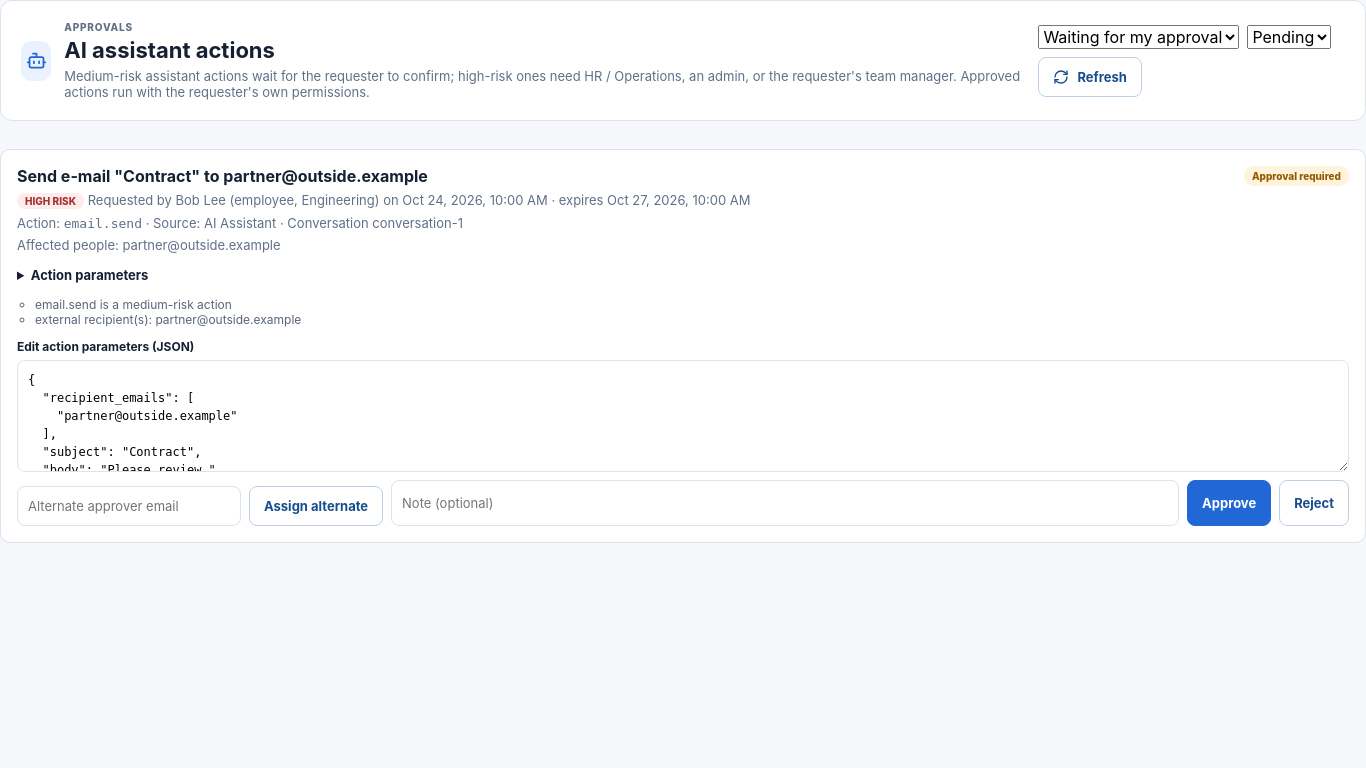
it: AgentApprovalsSection › lets an authorized approver assign an alternate by email
The image size is (1366, 768).
In the field with placeholder "Alternate approver email": (129, 506) [17,486,241,526], type "farah@northstar.example"
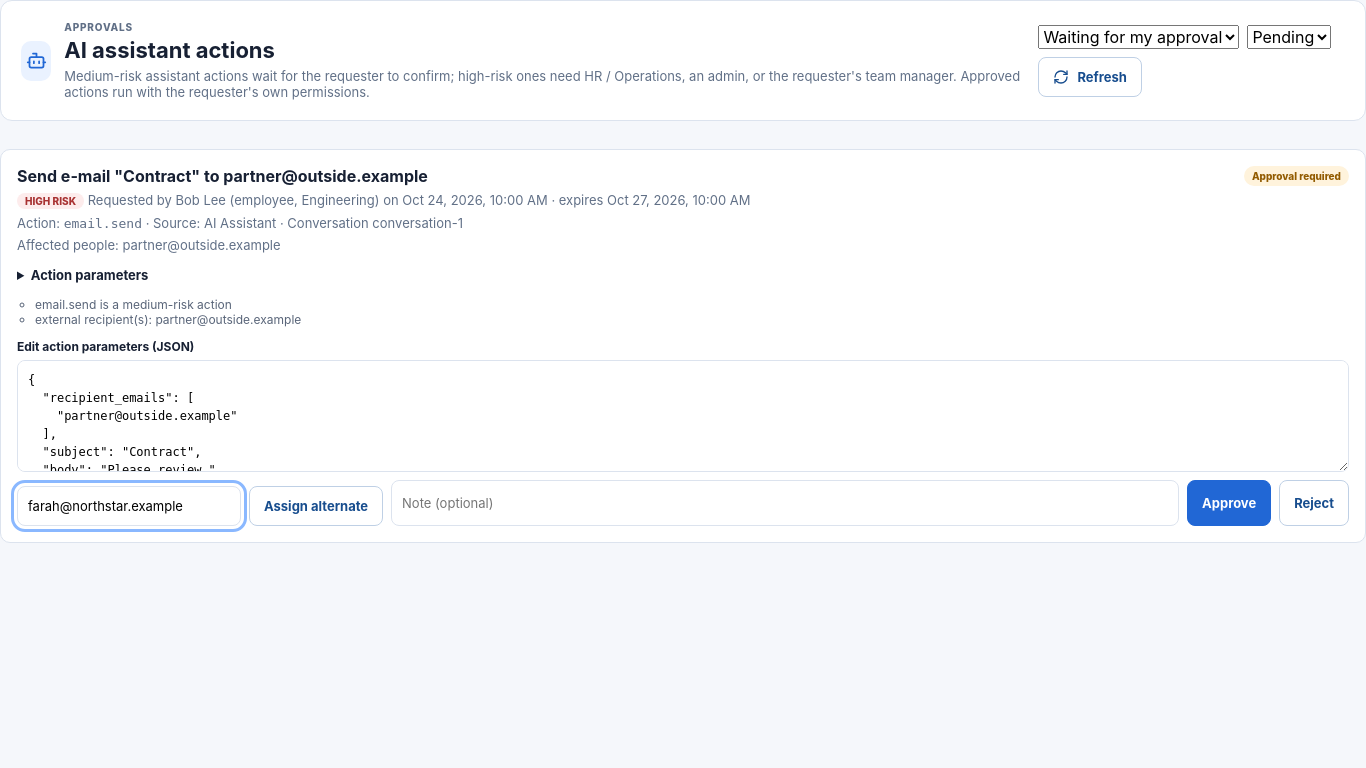
Click the button "Assign alternate": (316, 506) [249,486,383,526]
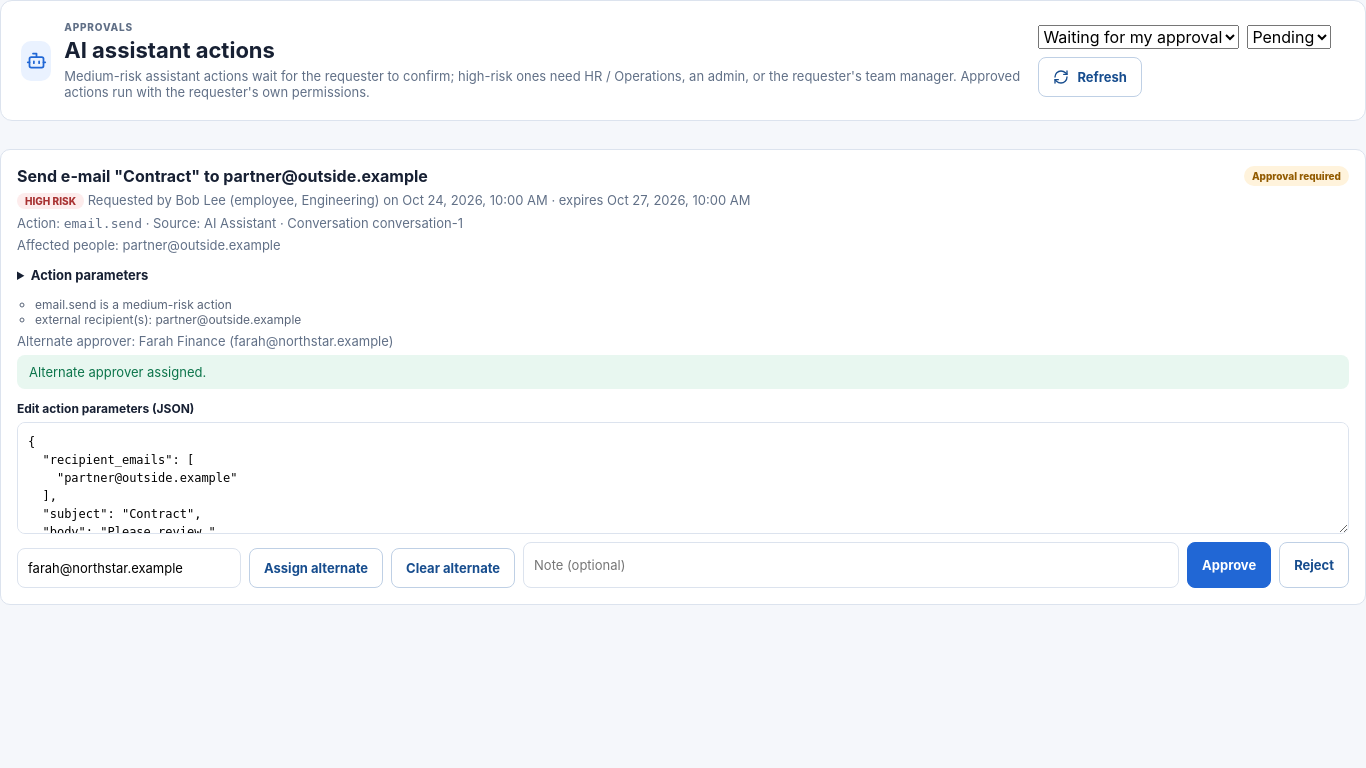
Expected: the text "Alternate approver: Farah Finance (farah@northstar.example)" is shown, [17,333,393,349]
